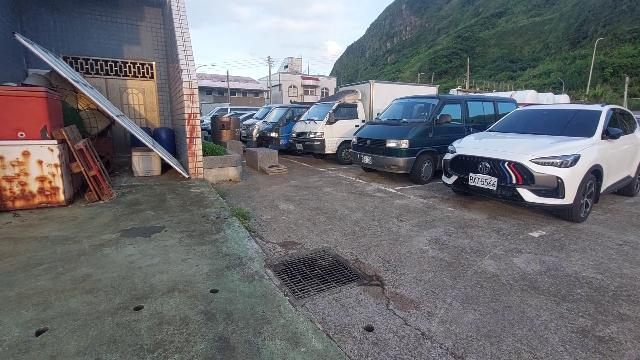pollute: (1, 70, 117, 215), (128, 145, 164, 177), (144, 126, 177, 158)
